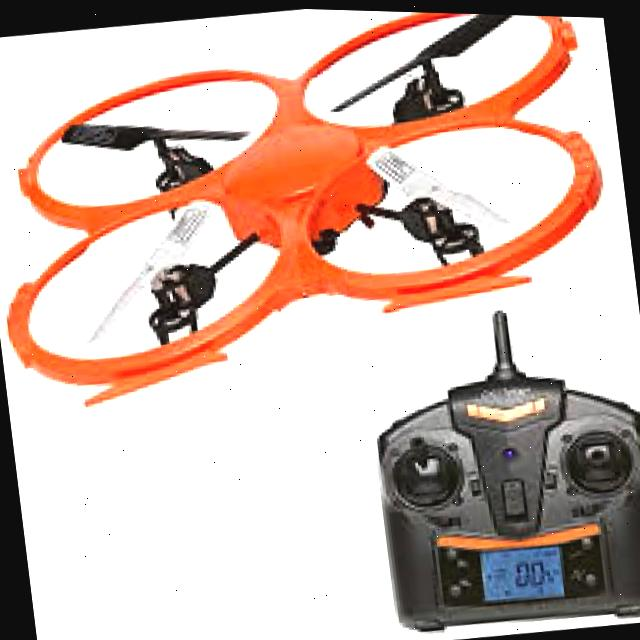drone: (0, 0, 640, 439)
